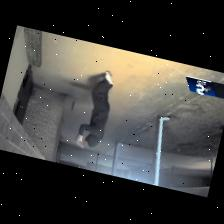person: (77, 70, 113, 146)
